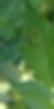Tomato leaf bacterial spot: (16, 0, 54, 97)
